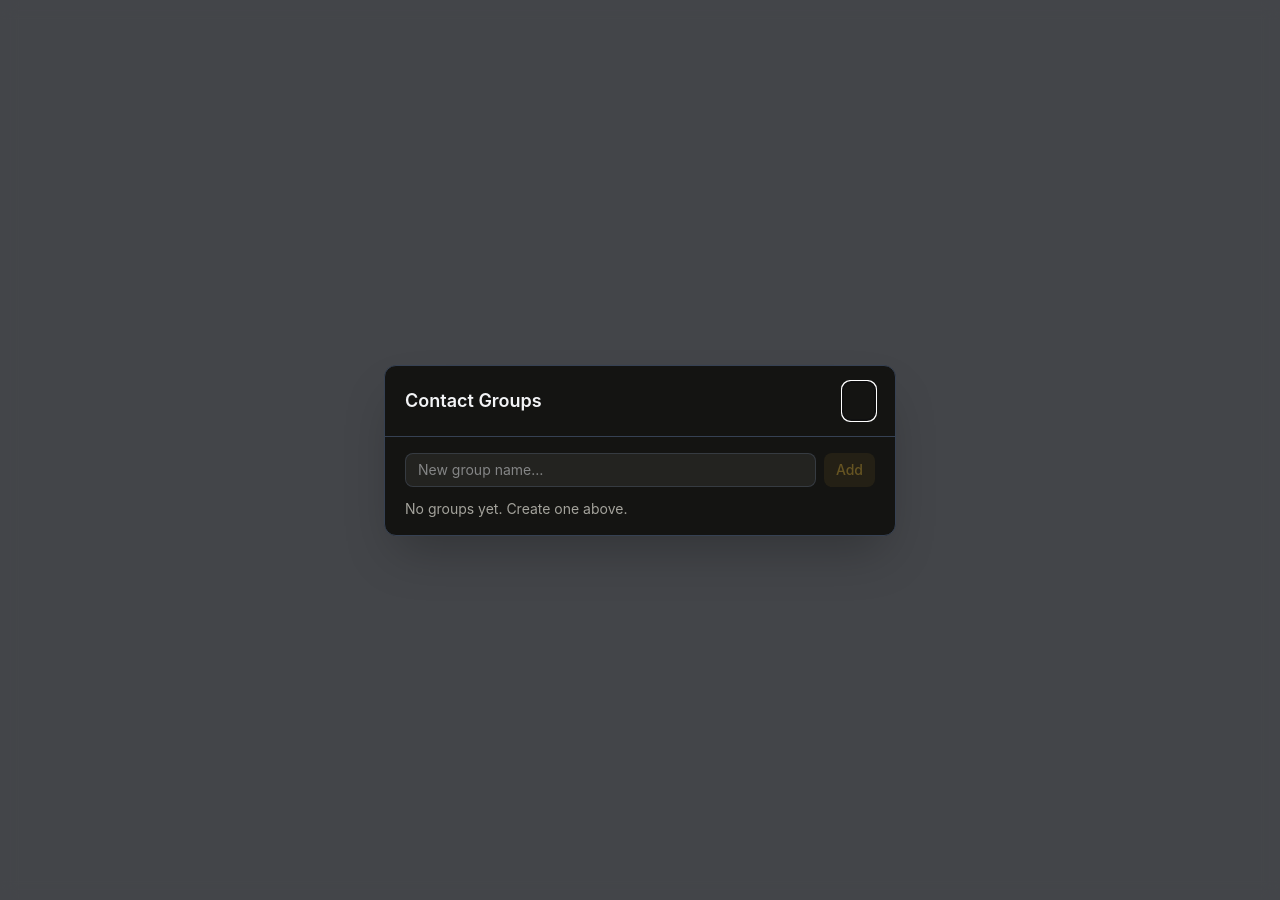
ContactGroupsModal › toasts and does not reject when create fails
Type "My Crew" into the field with placeholder "New group name…".
click(610, 470); type("My Crew")  # box [405,452,816,486]
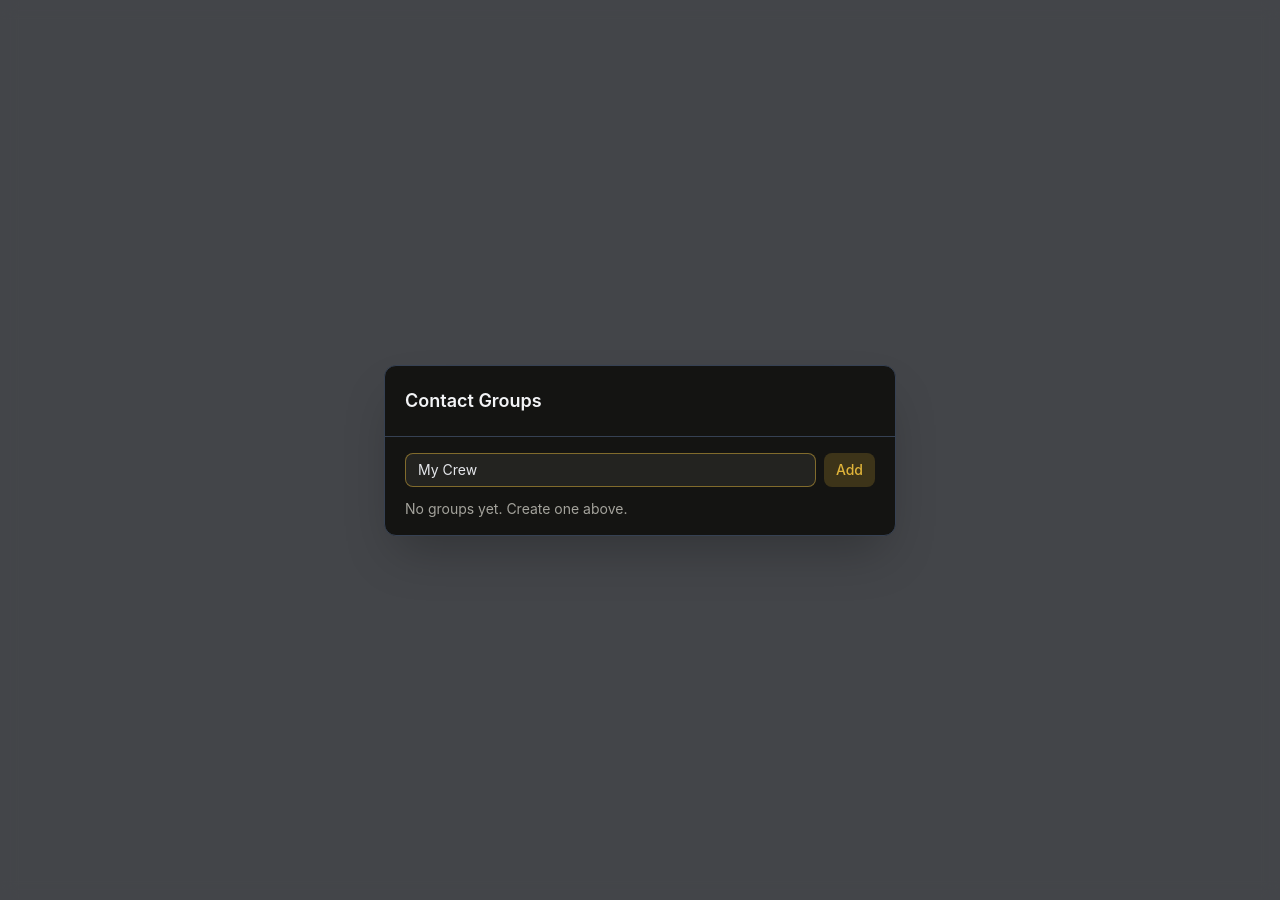
Click the button "Add".
click(849, 470)  # box [824,452,875,486]
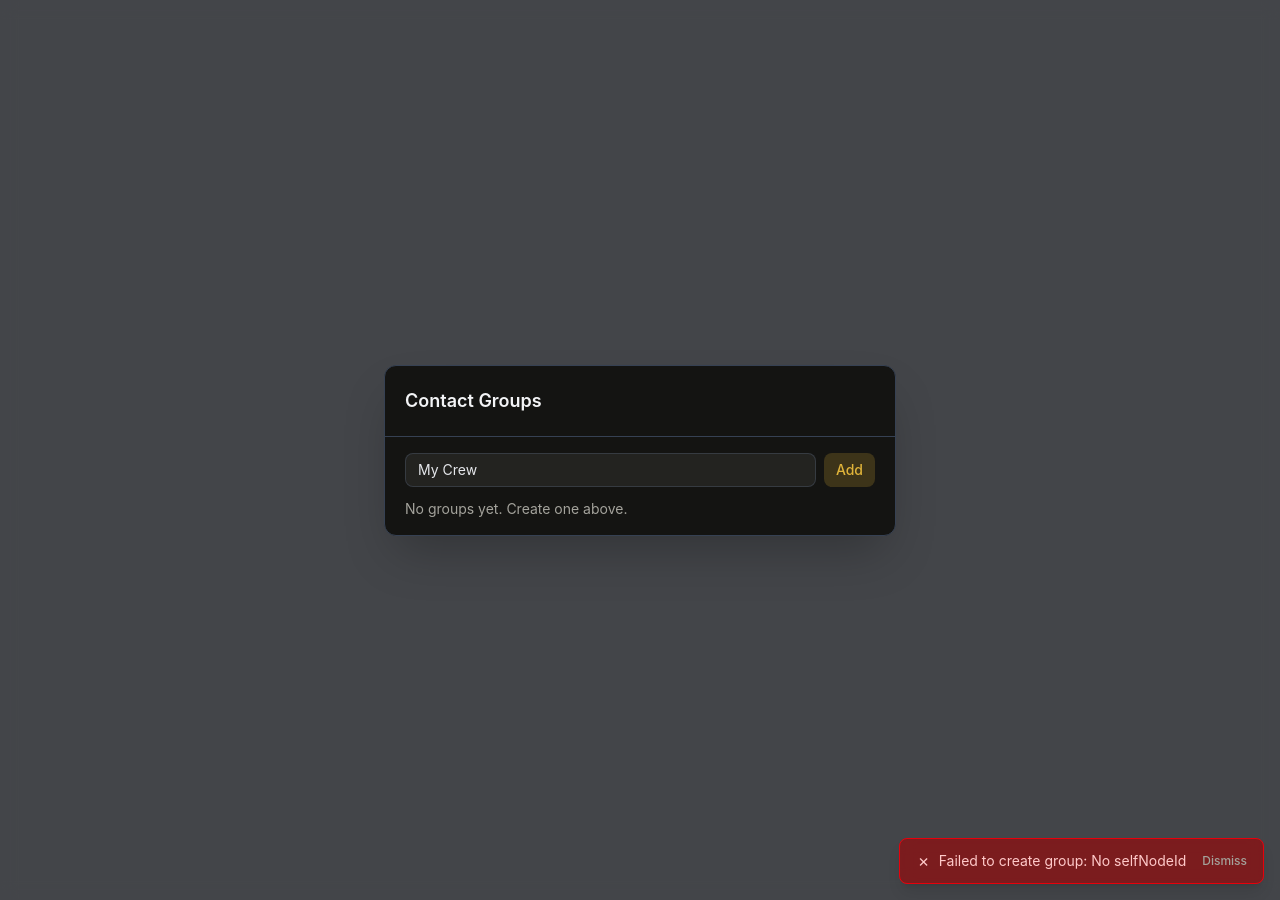
expect the text "Failed to create group: No selfNodeId" is shown: met, box [939,851,1186,871]
